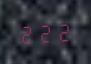two: (18, 21, 35, 44), (37, 20, 54, 43), (55, 19, 72, 42)
